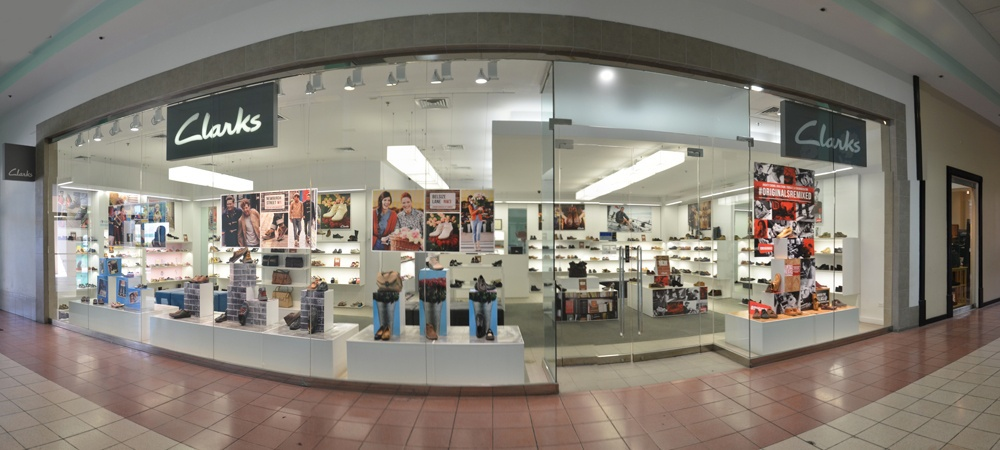text: (171, 105, 186, 148), (187, 105, 202, 148), (203, 105, 218, 148), (219, 105, 234, 148), (235, 105, 250, 148), (251, 105, 266, 148), (789, 115, 804, 154), (805, 115, 820, 154), (821, 115, 836, 154), (837, 115, 852, 154), (853, 115, 868, 154), (754, 188, 769, 201), (770, 188, 785, 201), (786, 188, 801, 201), (802, 188, 817, 201), (4, 167, 19, 178), (20, 167, 35, 178), (259, 196, 274, 206), (275, 196, 290, 206), (763, 183, 778, 192), (779, 183, 794, 192), (795, 183, 810, 192), (759, 245, 774, 252), (426, 199, 441, 206), (442, 199, 457, 206), (423, 194, 438, 200), (439, 194, 454, 200)
